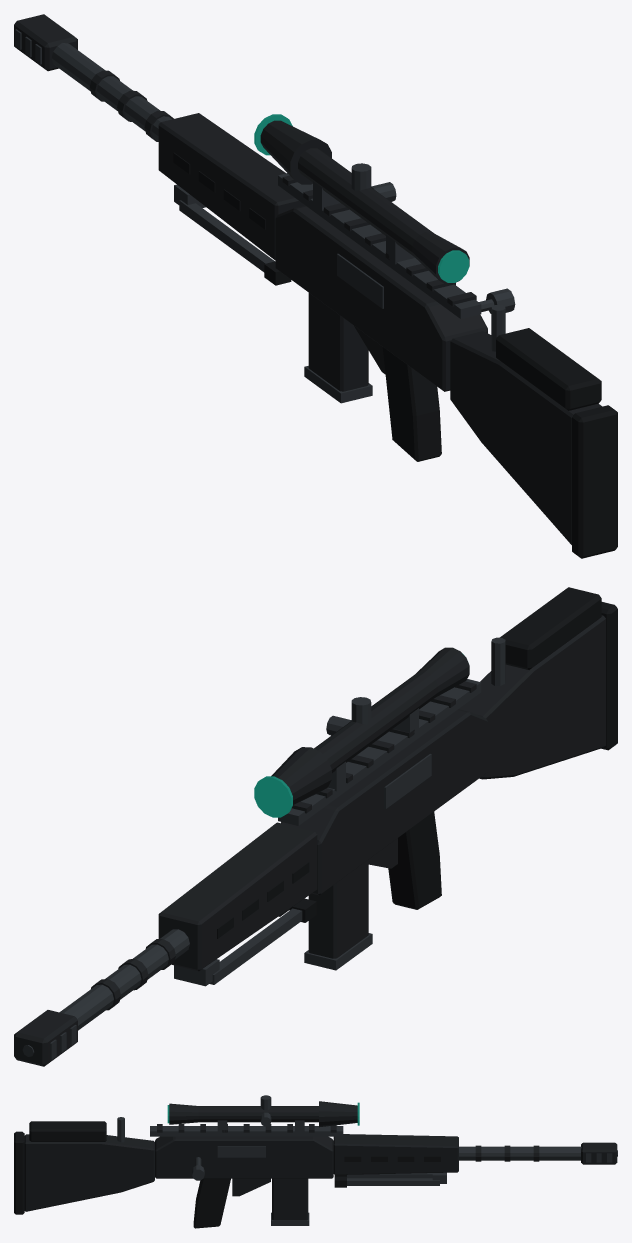
File: titan_default.glb
The picture shows the model from 3 angles, top to bottom: view 1: azimuth 30°, elevation 25°; view 2: azimuth 150°, elevation 25°; view 3: azimuth 270°, elevation 25°; orthographic projection. The views are drawn at different scales.
Visible parts, largest first — view 1: Titan_Default; view 2: Titan_Default; view 3: Titan_Default.
Part boxes in pixels (x1,y1,x2,y2): Titan_Default: (14, 14, 617, 558); Titan_Default: (14, 587, 617, 1066); Titan_Default: (14, 1095, 617, 1228).
Bounding box in the file's own units: 0.137 × 0.2927 × 1.25.
1 material, 1 textured.
